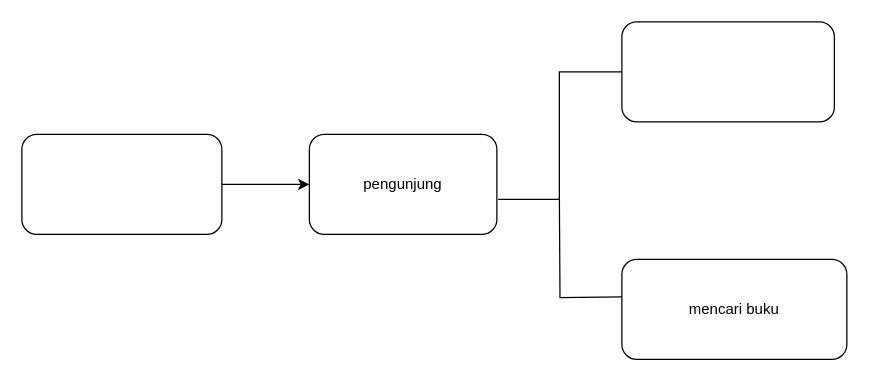
The diagram is 869 pixels wide and 381 high, and some of its shapes have lost their labels. The centre of each missing label's shape, as x and y in pixels:
"mengisi kunjungan" belongs at pixel 727 71.
"perpustakaan" belongs at pixel 121 183.
